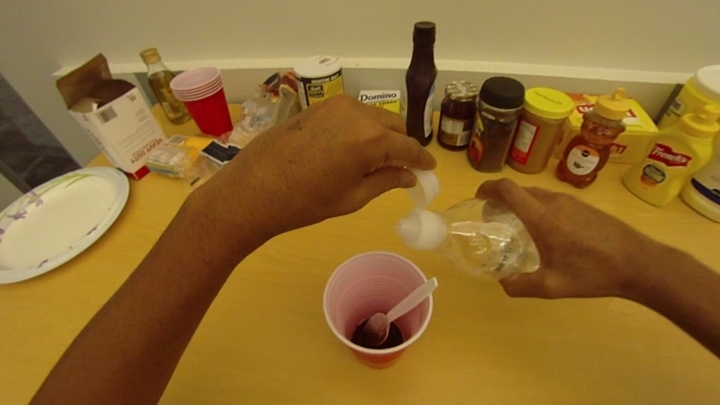hand: (247, 85, 432, 223), (470, 171, 635, 309)
